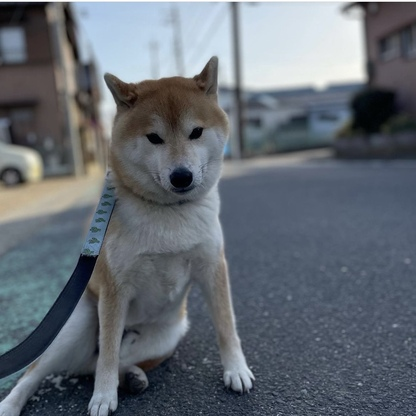shiba: (1, 51, 264, 416)
